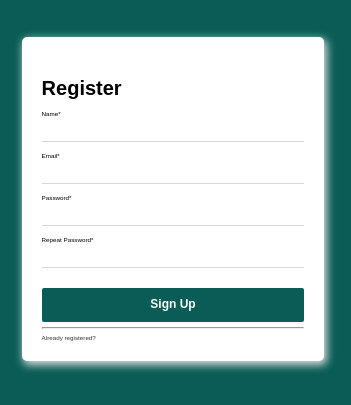
Test: RegisterScreen › check if button is disabled when password and repeat password do not match
This screenshot has width=351, height=405.
Type "John Doe" into the field labelled "Name*" at (173, 129), box [42, 117, 304, 142]
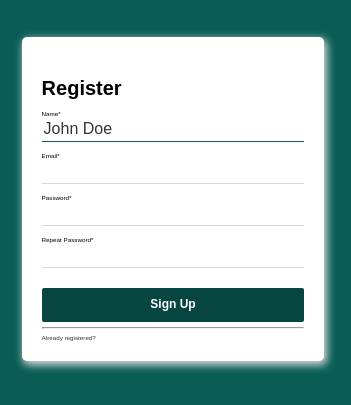
Type "test@mail.com" into the field labelled "Email*" at (173, 172), box [42, 159, 304, 184]
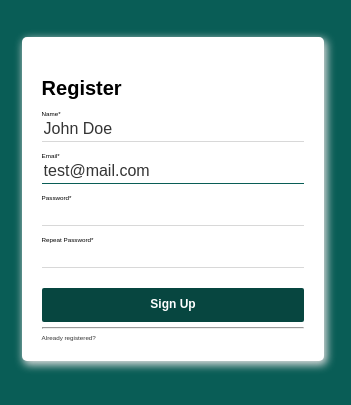
Type "password123" into the password field labelled "Password*" at (173, 214), box [42, 201, 304, 226]
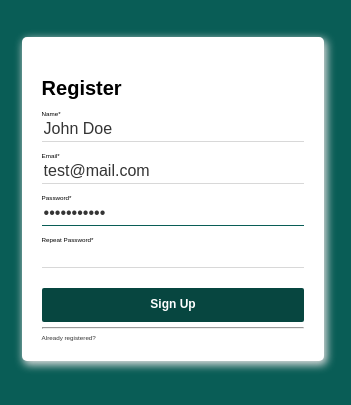
Type "password12345" into the password field labelled "Repeat Password*" at (173, 256), box [42, 243, 304, 268]
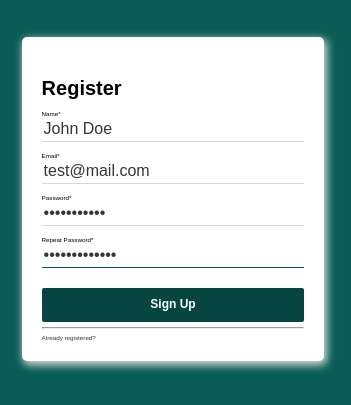
Expected: the button "Sign Up" is disabled, [42, 288, 304, 322]
Press Tab
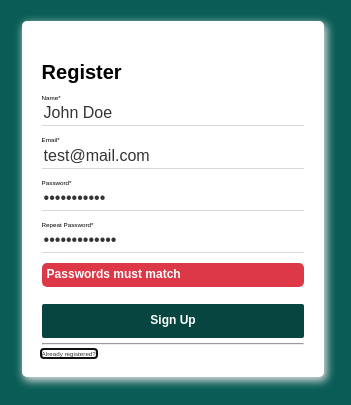
Expected: the text "Passwords must match" is shown, [42, 263, 304, 287]
